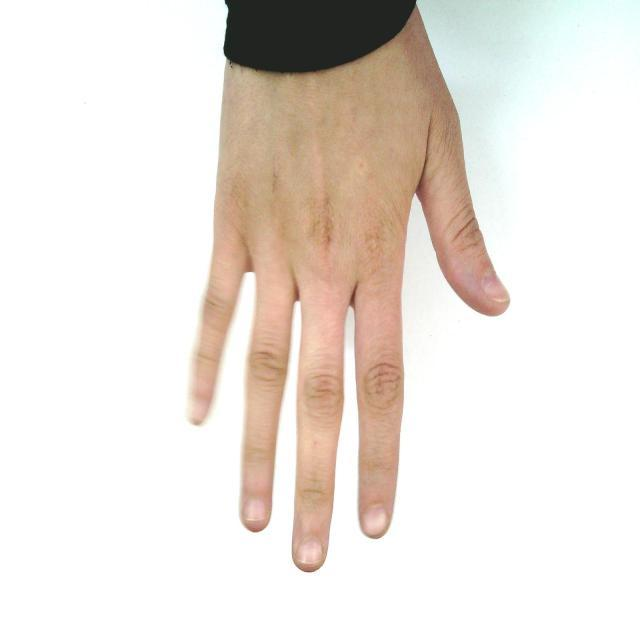Fingernail: (363, 507, 387, 536), (484, 272, 508, 301), (298, 541, 321, 563), (246, 500, 266, 521)
